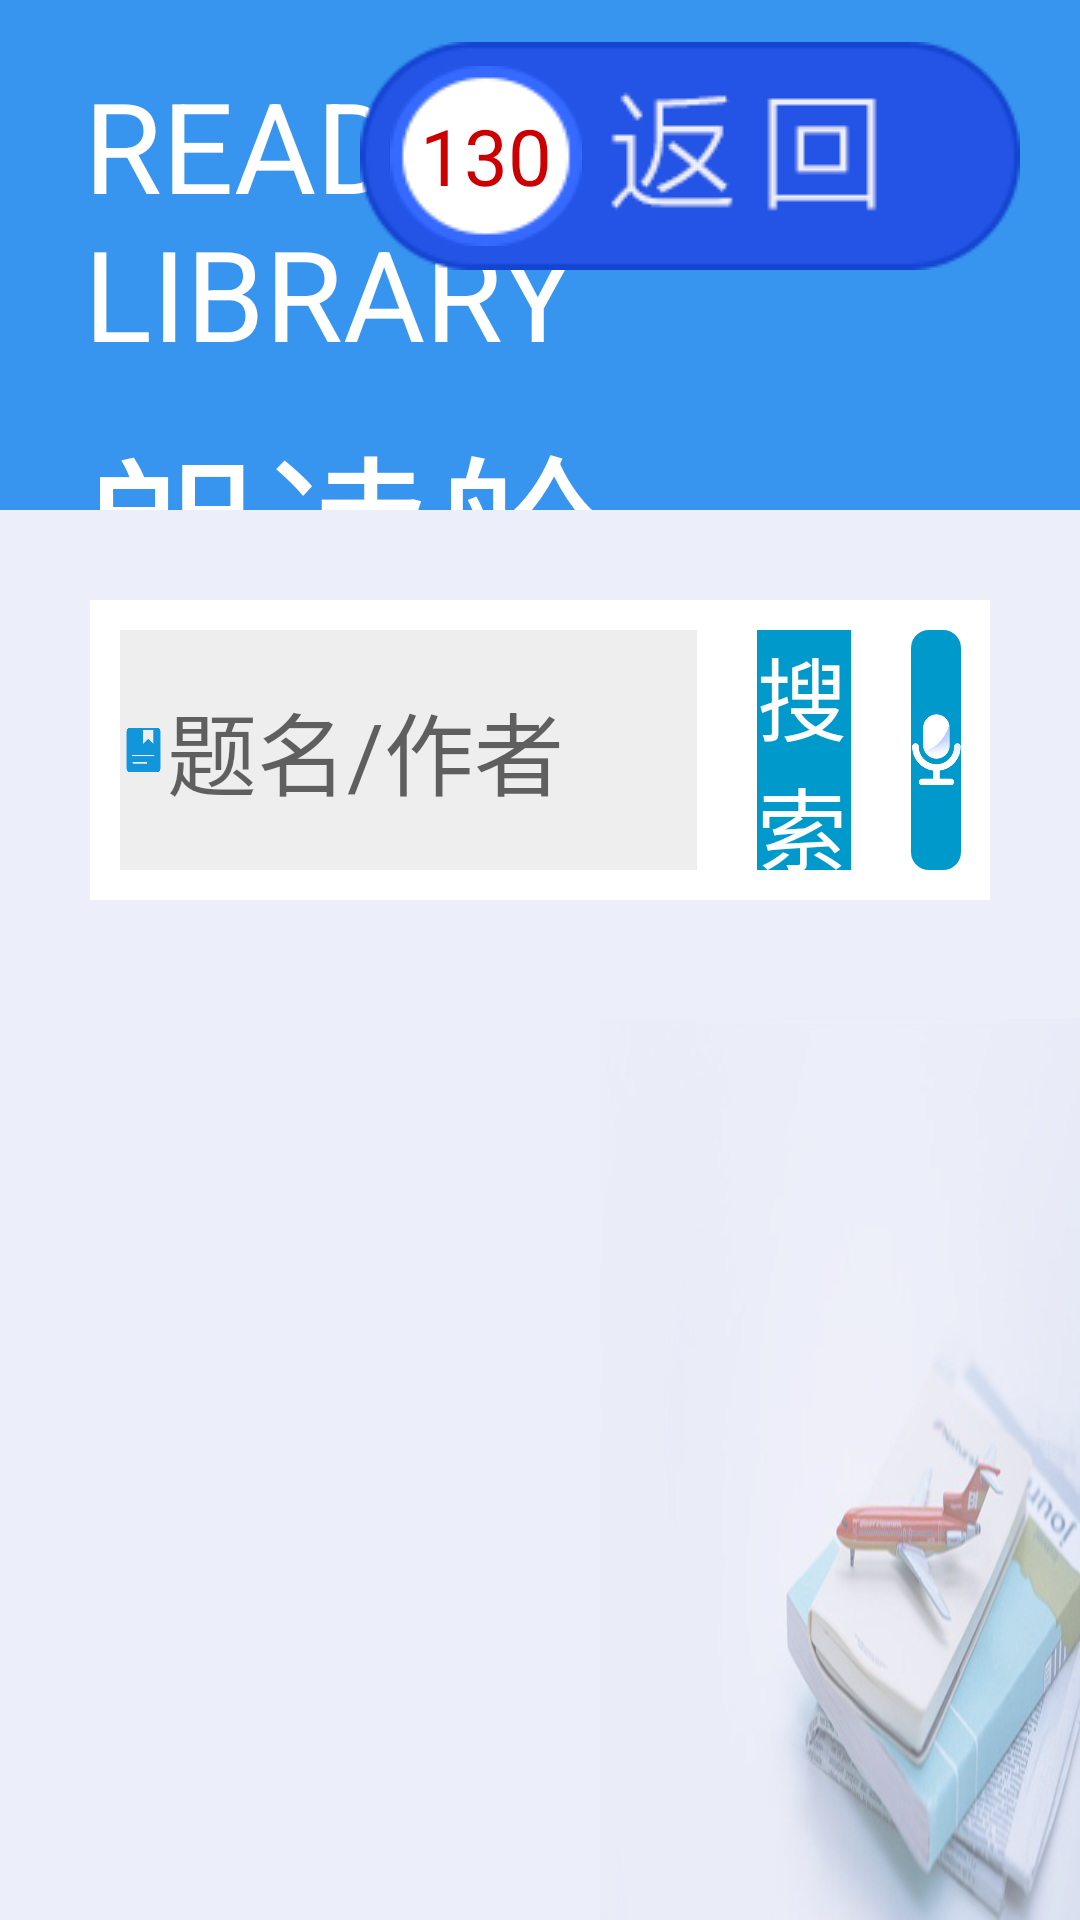

Icons on this 1080px x 1920px Android screen, each with its box as bbox=(x1, y1, x2, y2):
book title: bbox=(126, 728, 161, 772)
